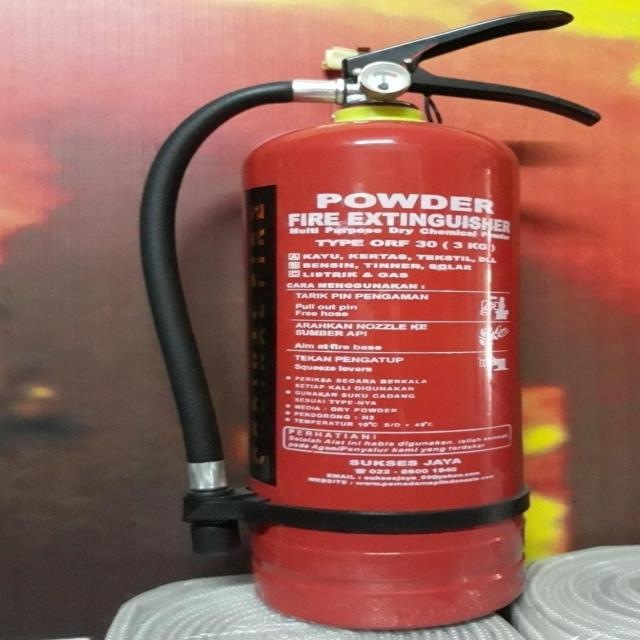fire_extinguisher: (127, 5, 614, 636)
